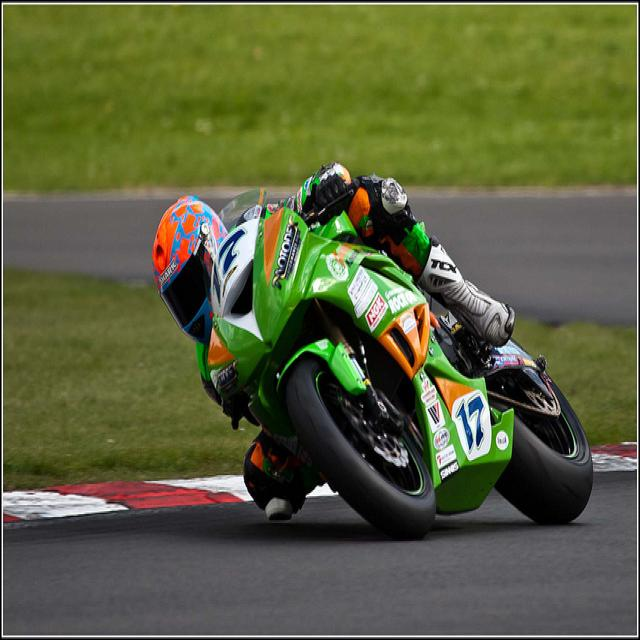motor: (202, 177, 591, 545)
